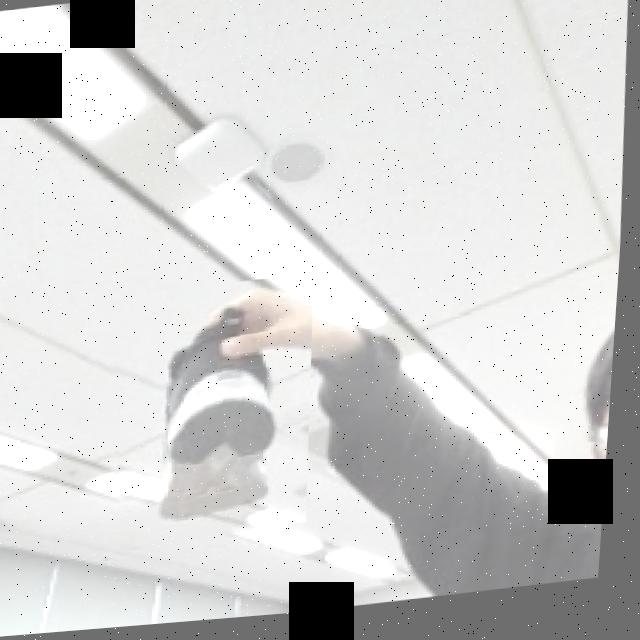shoe: (102, 278, 327, 557)
